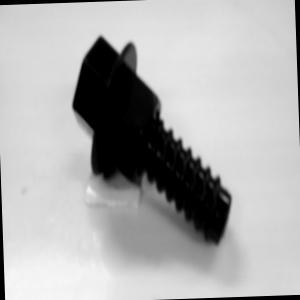parafuso: (69, 30, 235, 254), (68, 29, 236, 249)
